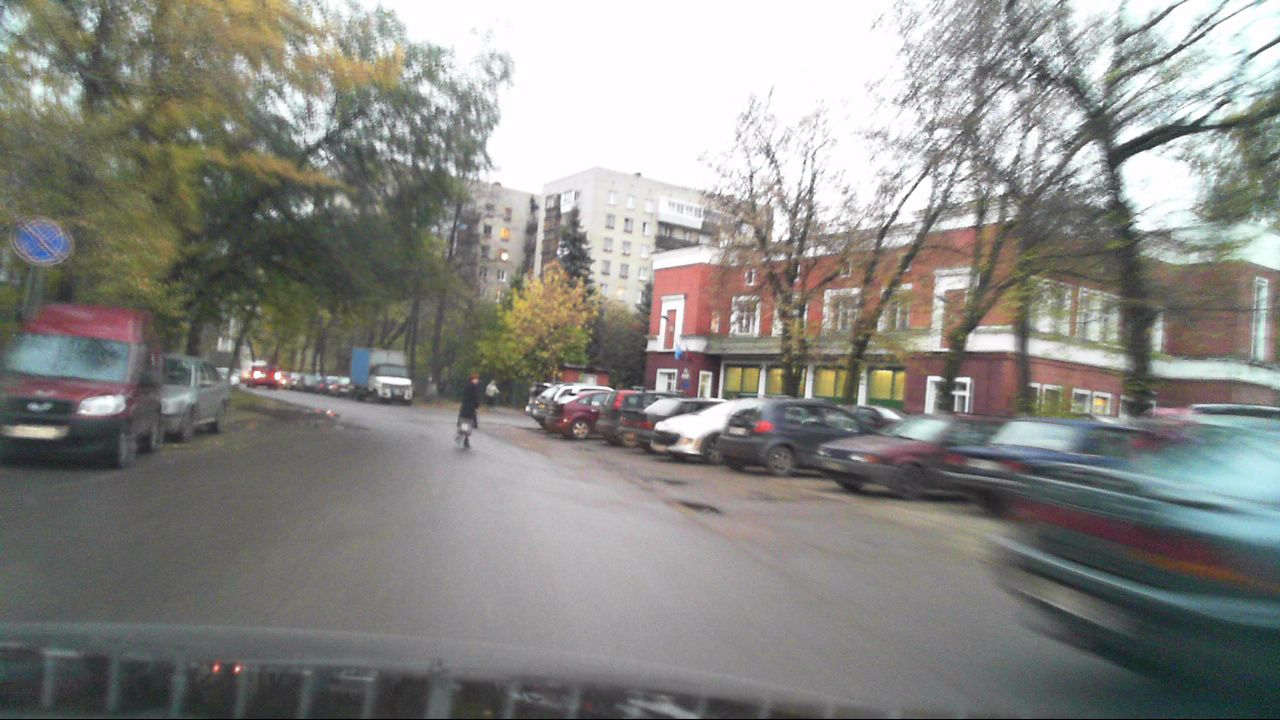No Parking: (12, 213, 64, 265)
